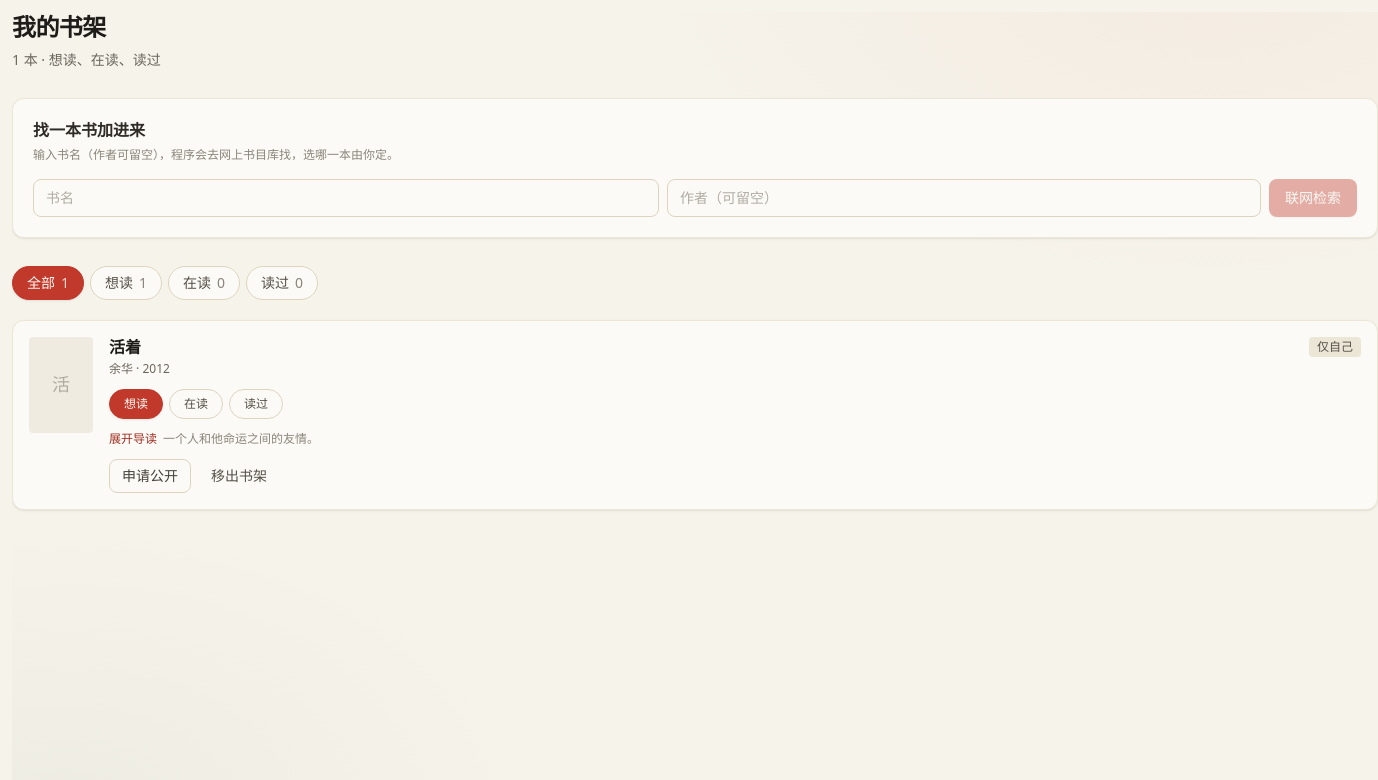
Test: 联网检索加书 › 已经在书架上的书，候选里标出来并禁用
This screenshot has width=1378, height=780.
Check: the heading "活着" is shown, box [109,337,141,359]
Type "活着" into the field labelled "书名".
click(346, 198); type("活着")  # box [33,179,659,217]
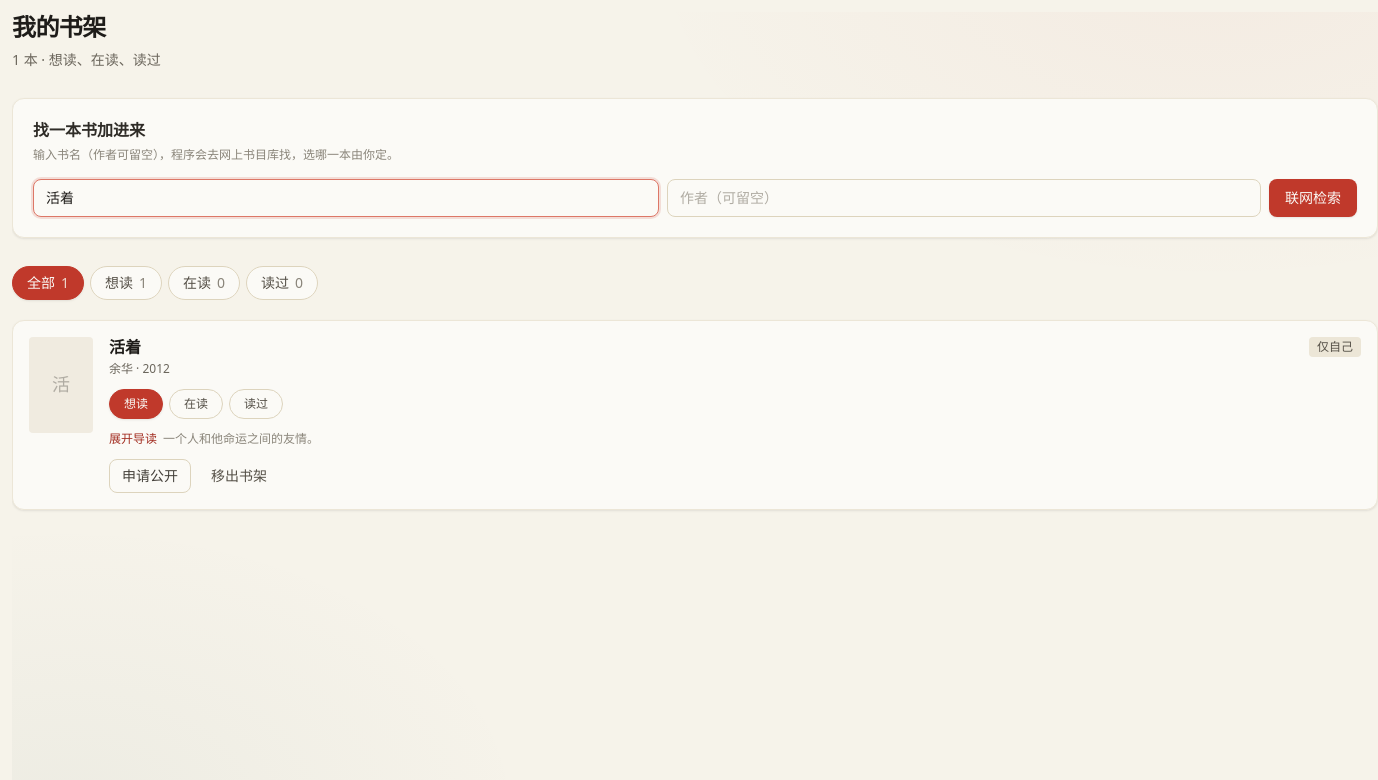
Click the button "联网检索".
click(1313, 198)  # box [1269,179,1357,217]
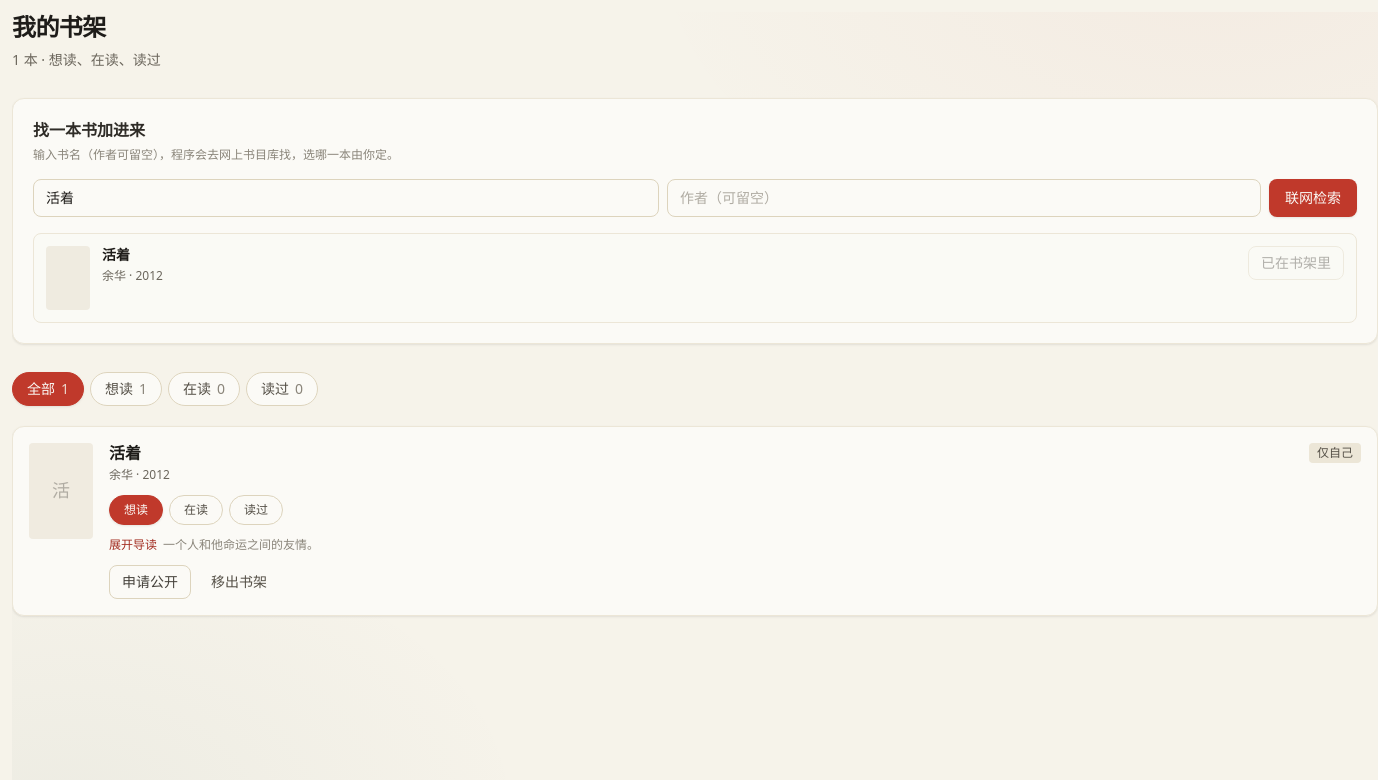
Check: the button "已在书架里" is disabled, box [1248,246,1344,280]
